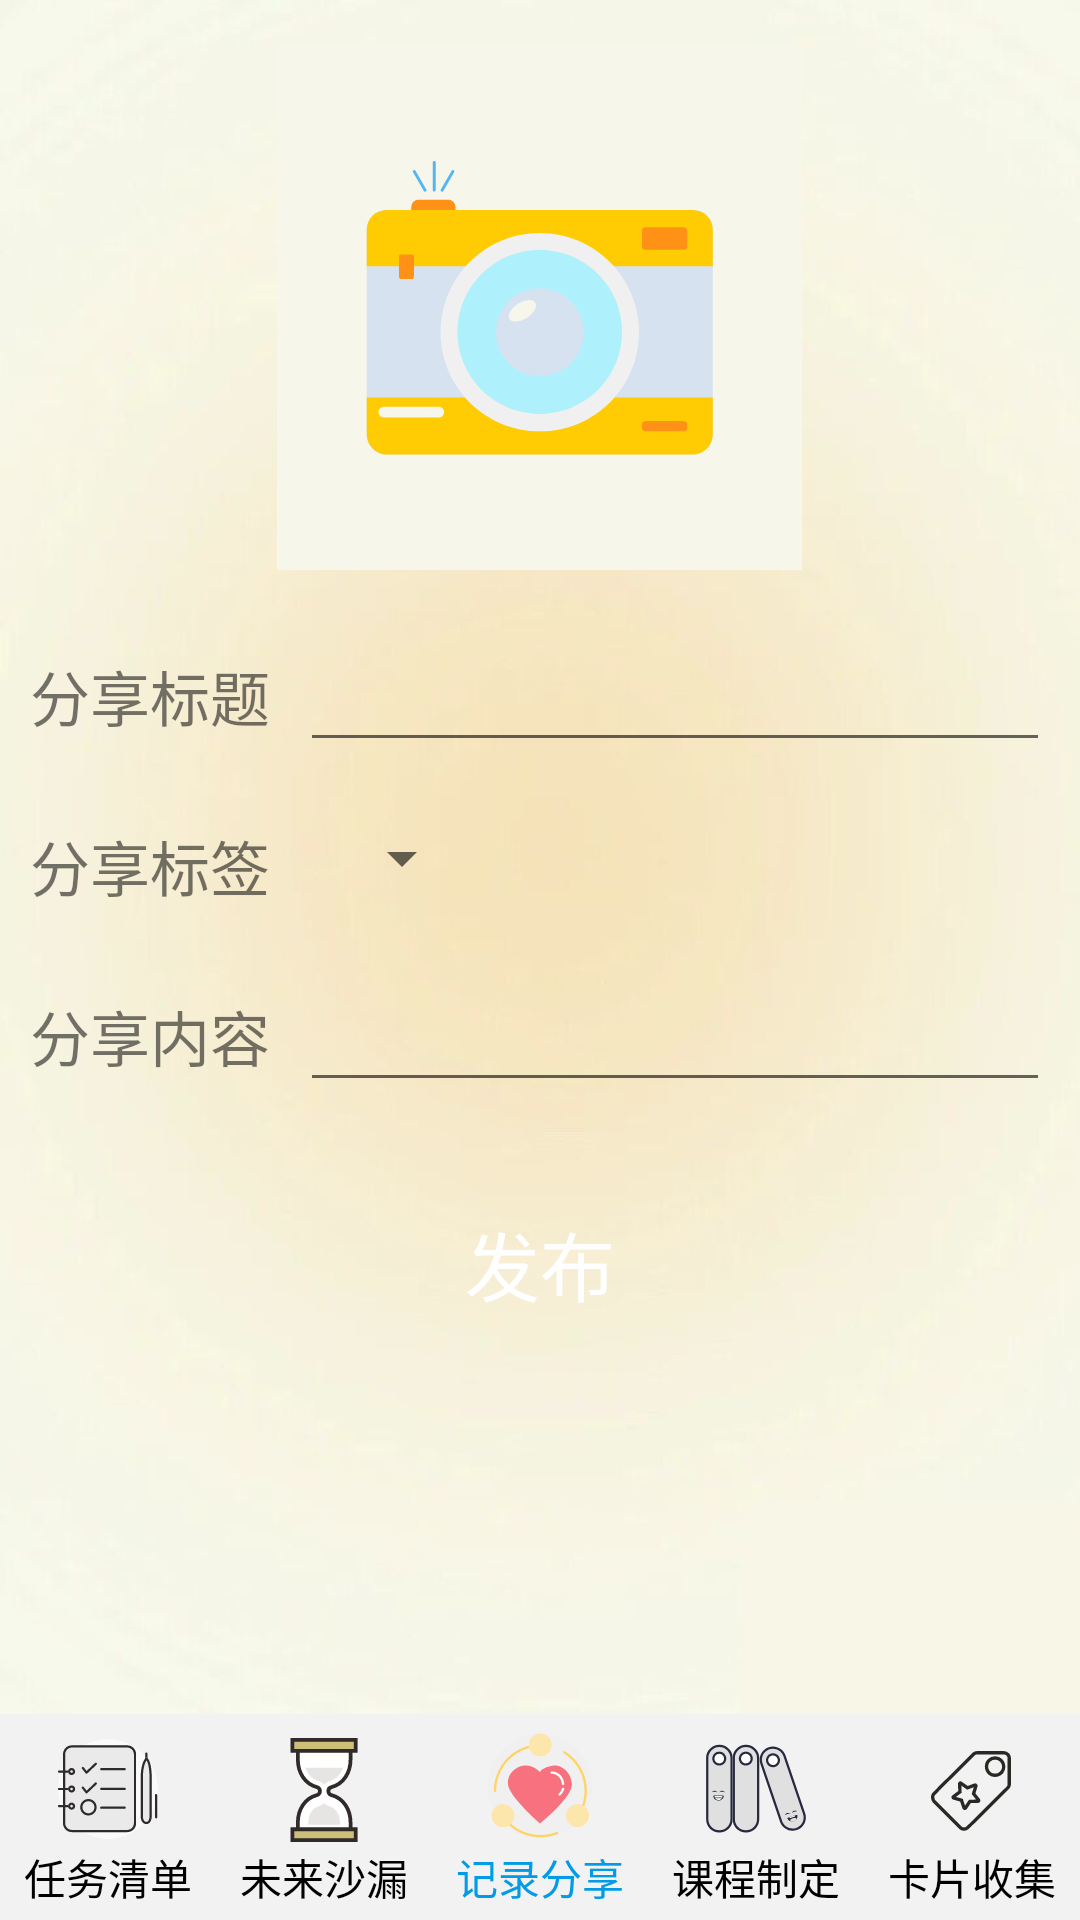

Named icons in this screenshot (1080*1920) and their centers, (x=x, y=y):
publish camera: (x=539, y=308)
